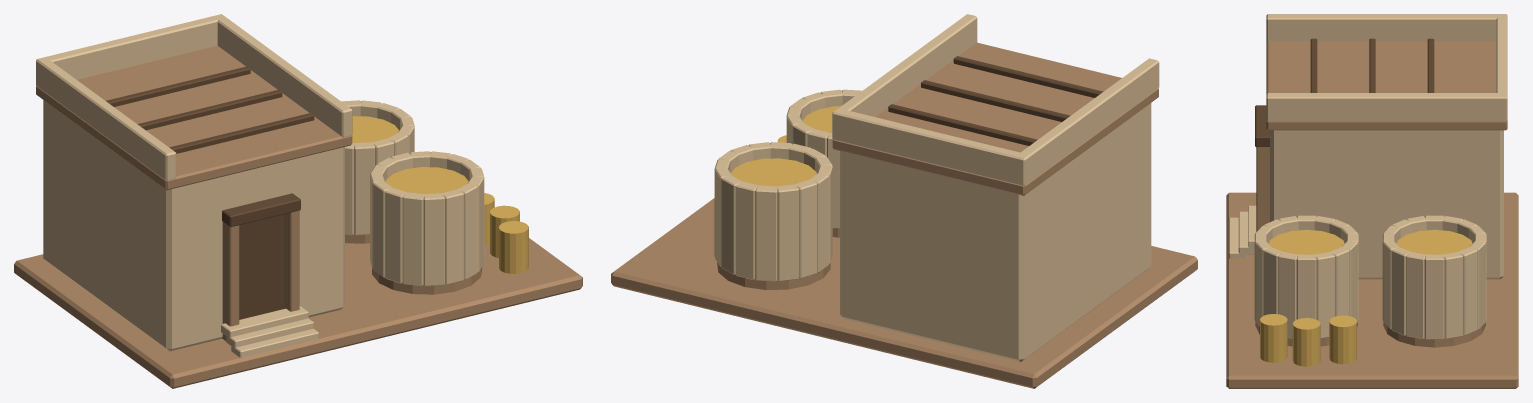
Rendered from granary-reference.glb.
3 renders of one model, left to right at view 1: azimuth 30°, elevation 25°; view 2: azimuth 150°, elevation 25°; view 3: azimuth 270°, elevation 25°, orthographic. The views are drawn at different scales.
Visible parts, largest first — view 1: Bin floor 0; view 2: Bin floor 0; view 3: Bin floor 0.
Part boxes in pixels (<box>): Bin floor 0: <box>14,14,582,388</box>; Bin floor 0: <box>611,14,1197,388</box>; Bin floor 0: <box>1226,14,1518,388</box>.
Size of the model in its own units: 6 by 3 by 4.
